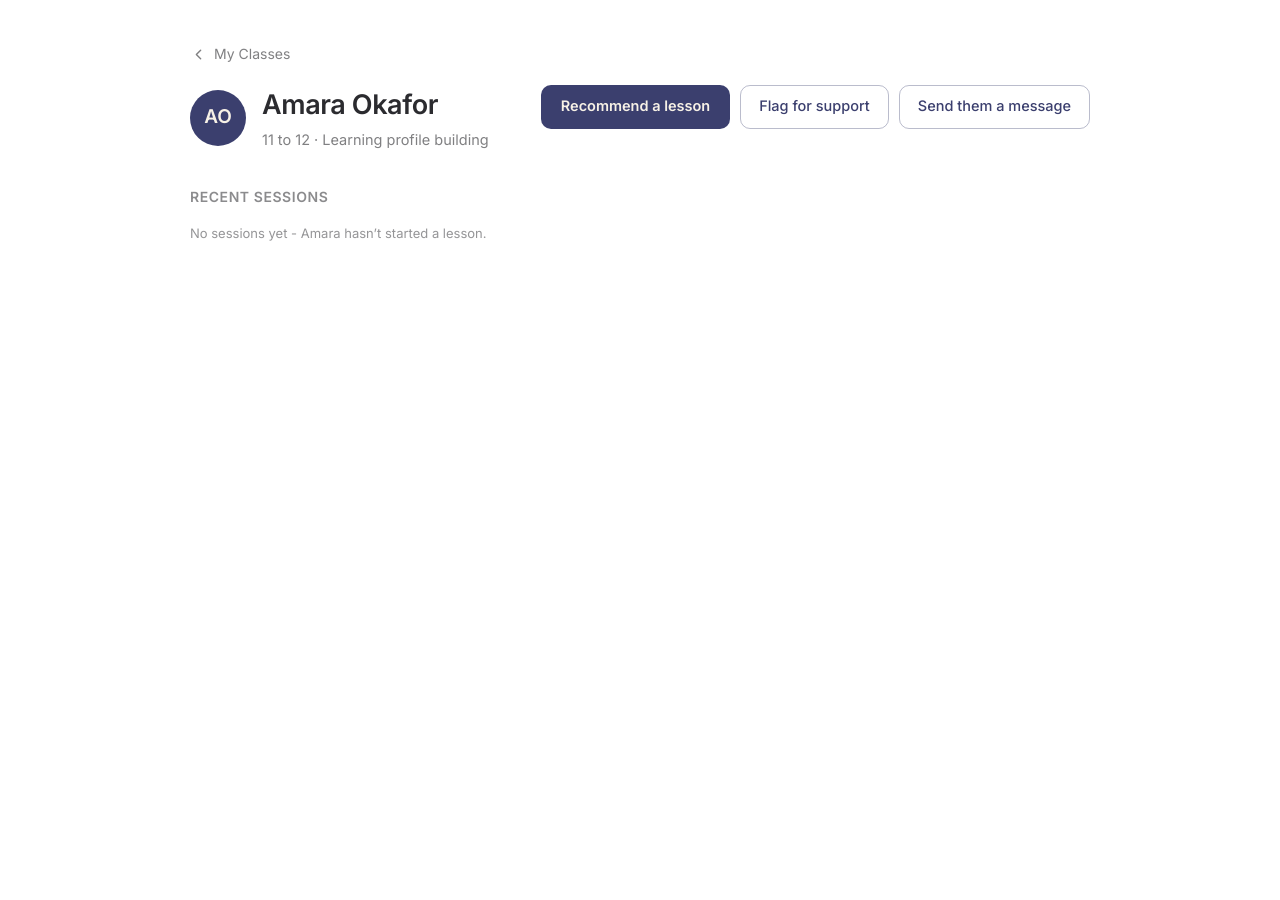
the quiet note › is NOT shown when the send failed
Click the button "Flag for support": (814,106) [740,84,889,128]
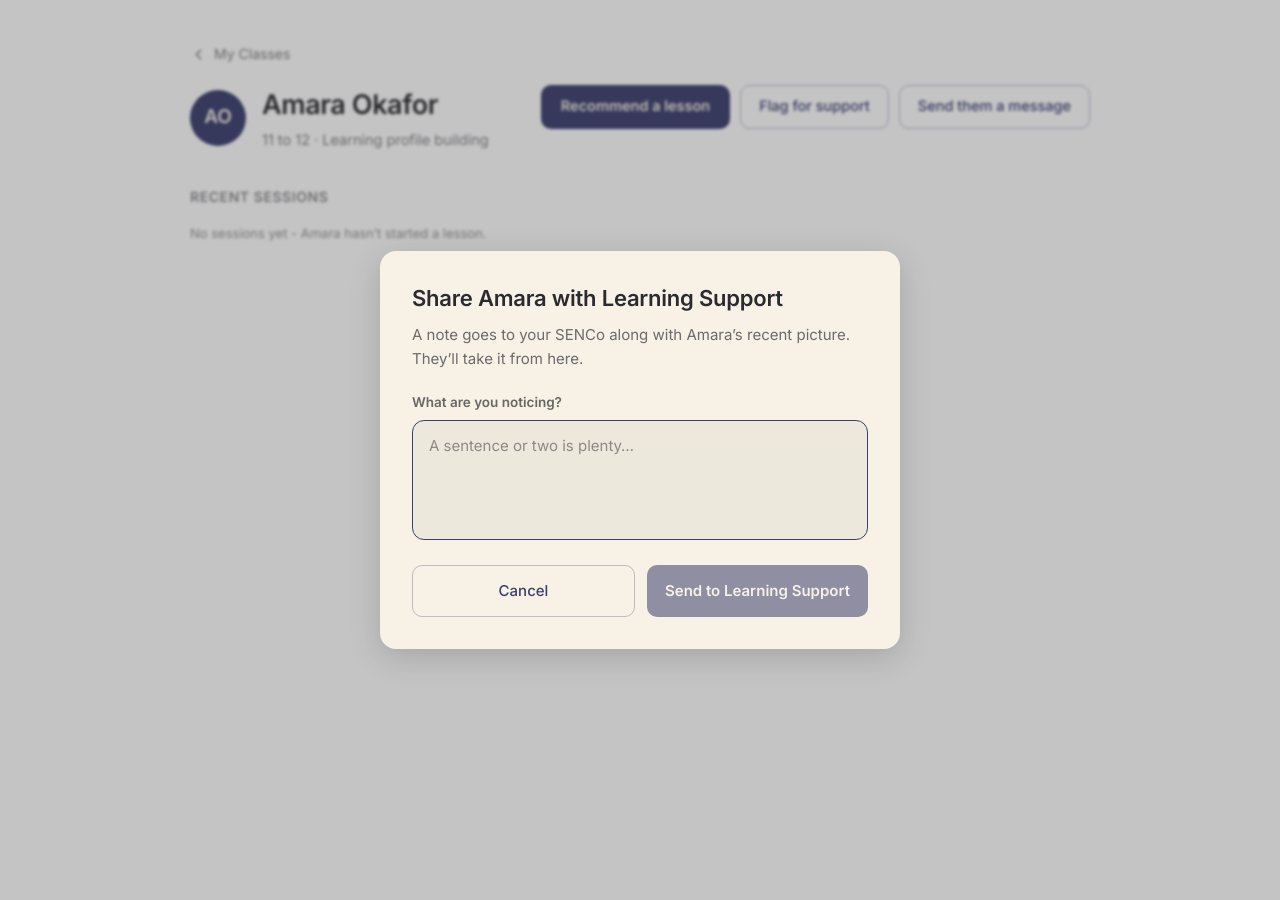
In the text box: (640,480) [412,420,868,540], type "Please take a look."
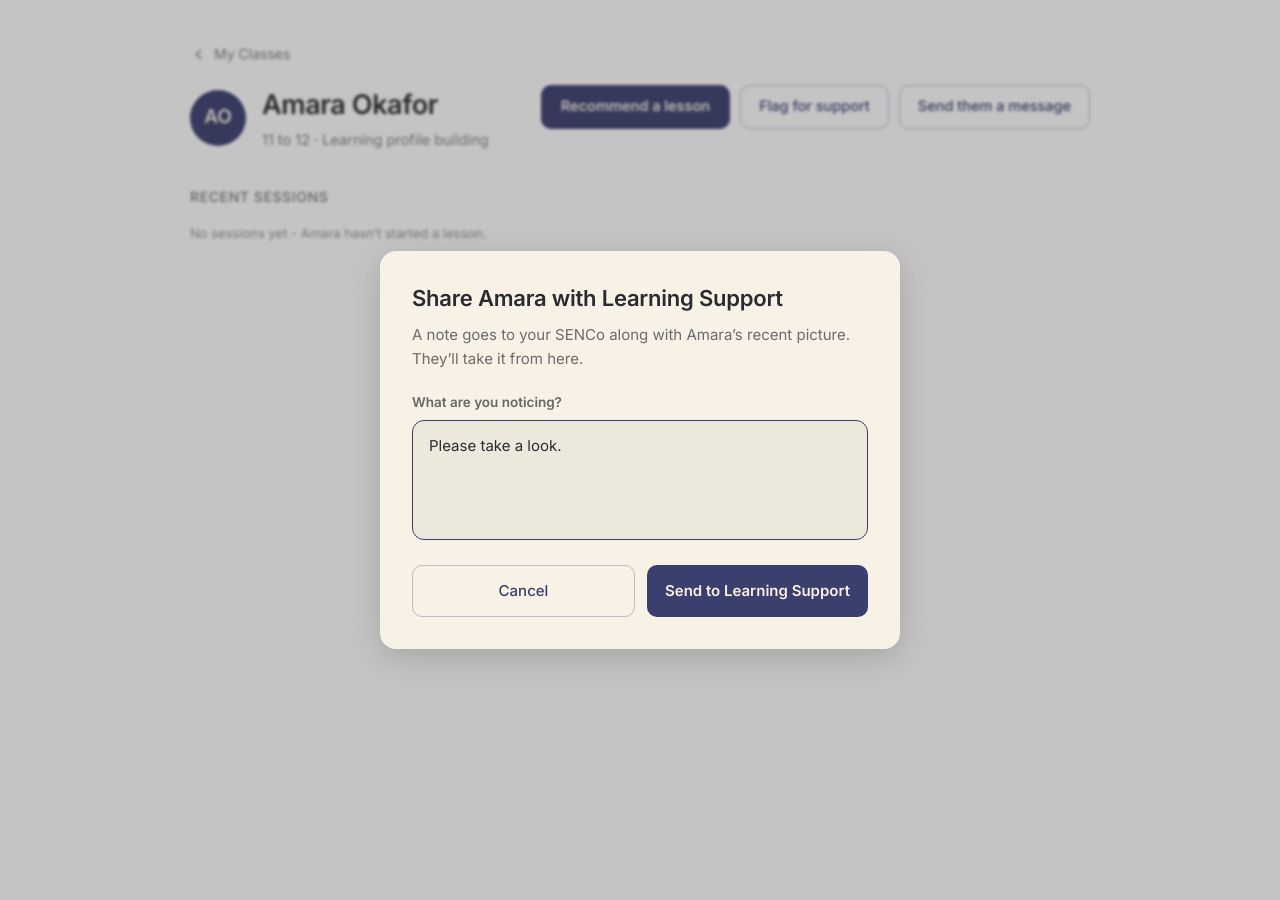
Click the button "Send to Learning Support": (758,591) [647,565,868,617]
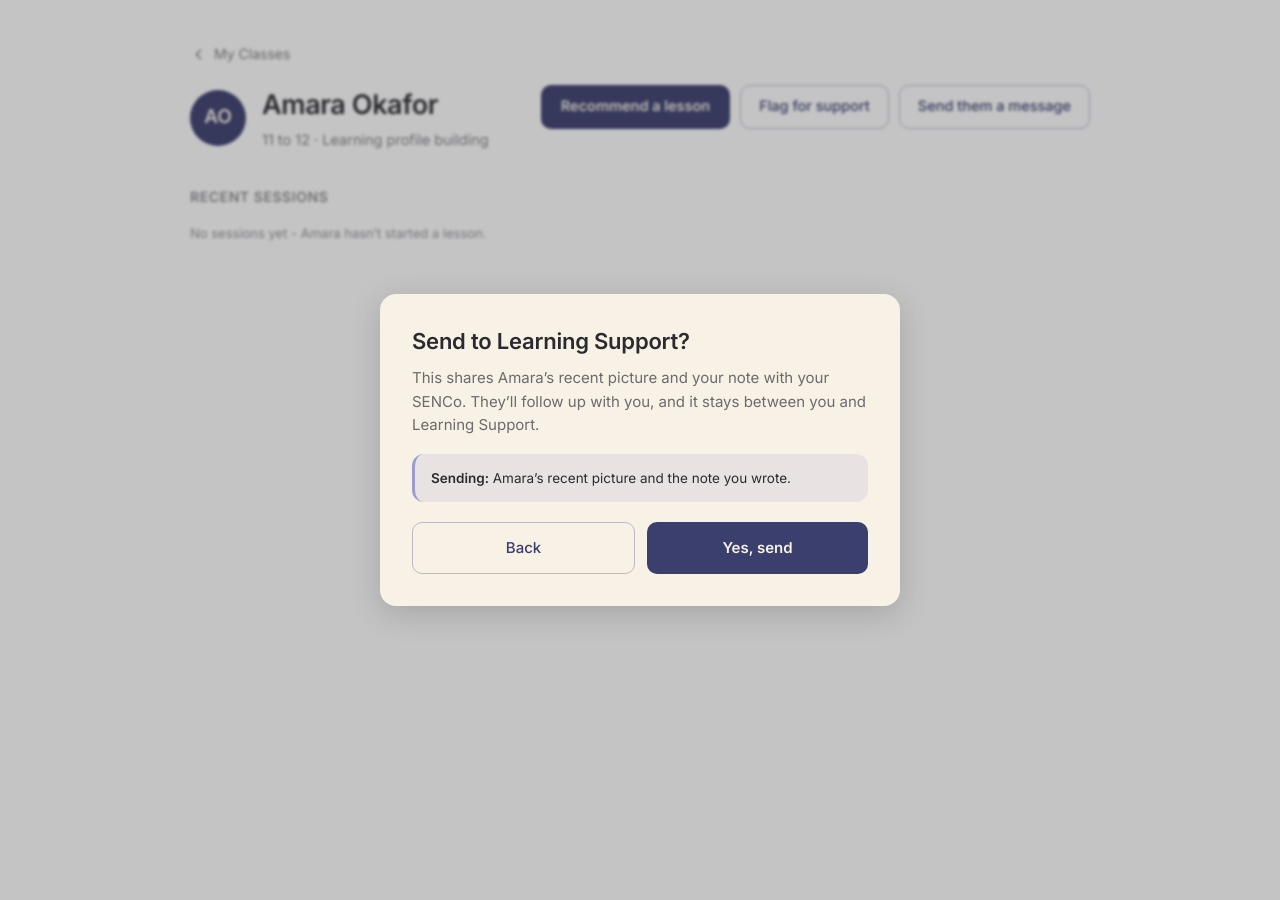
Click the button "Yes, send": (758,548) [647,522,868,574]
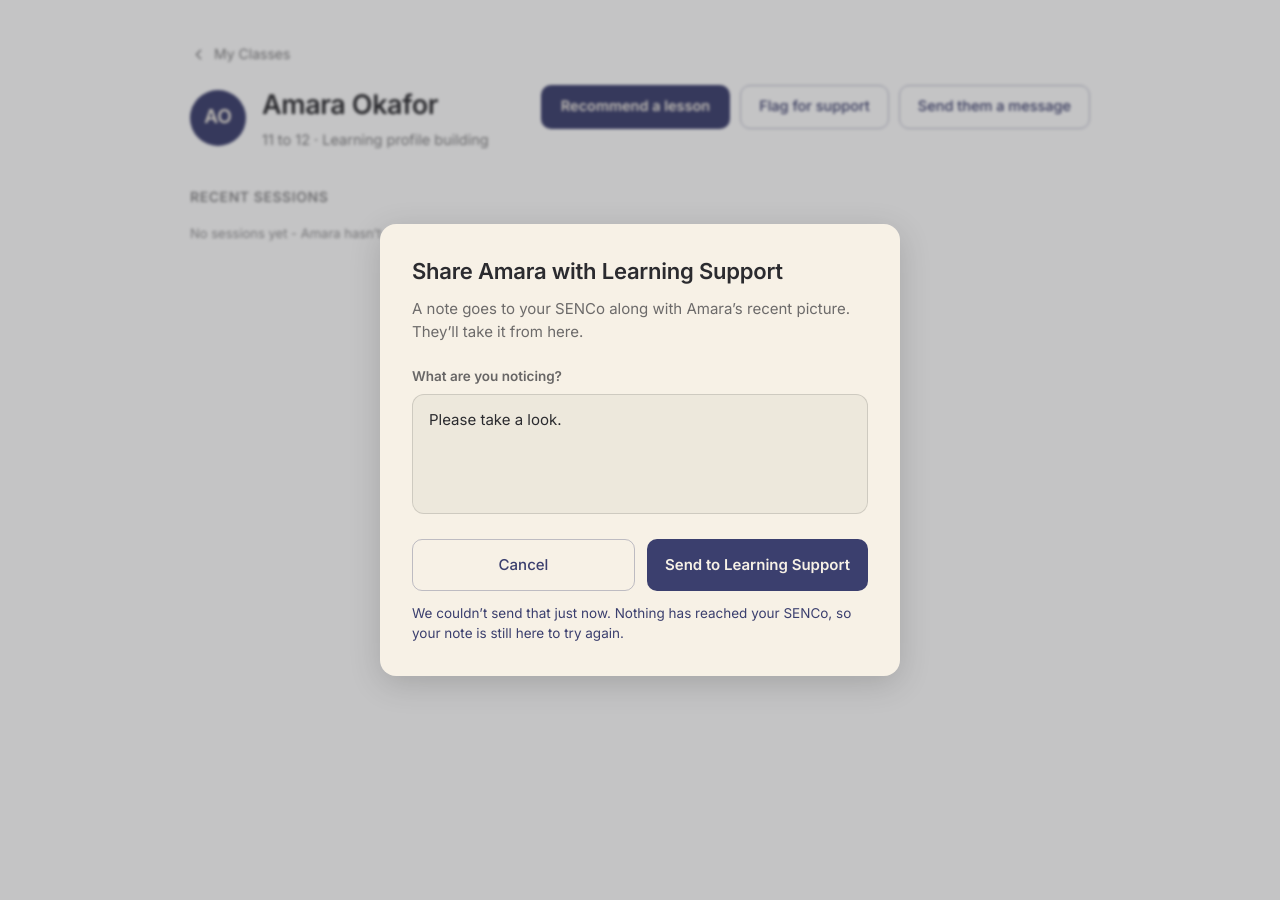
Expected: the dialog is shown, [380,224,900,676]
Expected: the message is shown, [412,603,868,644]
